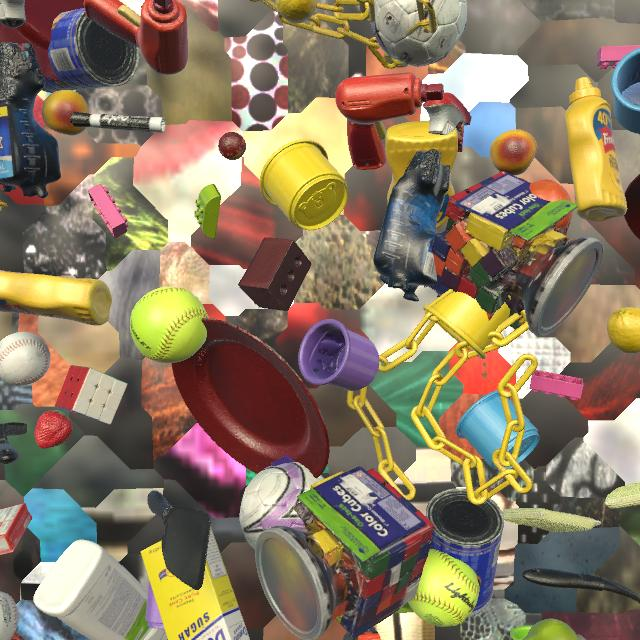ycb_002_master_chef_can: (426, 488, 504, 616), (42, 8, 140, 93)
ycb_004_sugar_box: (140, 528, 250, 640)
ycb_006_mustard_bottle: (564, 77, 627, 222), (385, 121, 458, 229), (0, 270, 112, 326)
ycb_009_gelatin_box: (0, 503, 32, 555)
ycb_012_strawberry: (34, 410, 73, 449)
ycb_014_lemon: (607, 308, 640, 353), (275, 0, 318, 24)
ycb_015_peach: (41, 90, 90, 136), (490, 129, 537, 176)
ycb_016_pear: (522, 619, 579, 640)
ycb_017_orange: (529, 179, 573, 229)
